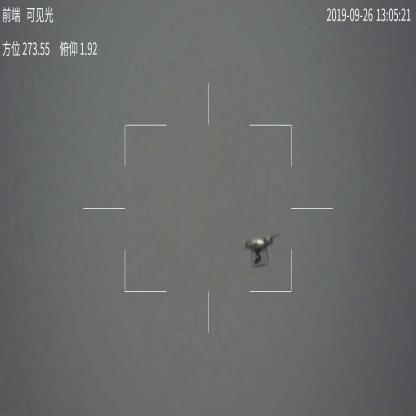uav: (239, 236, 277, 268)
